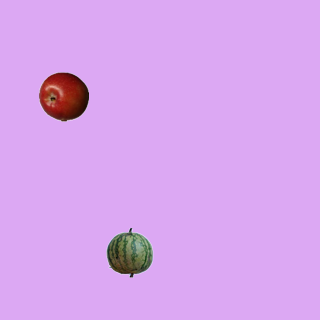Apple Braeburn: (38, 71, 88, 121)
Watermelon: (104, 227, 154, 277)
